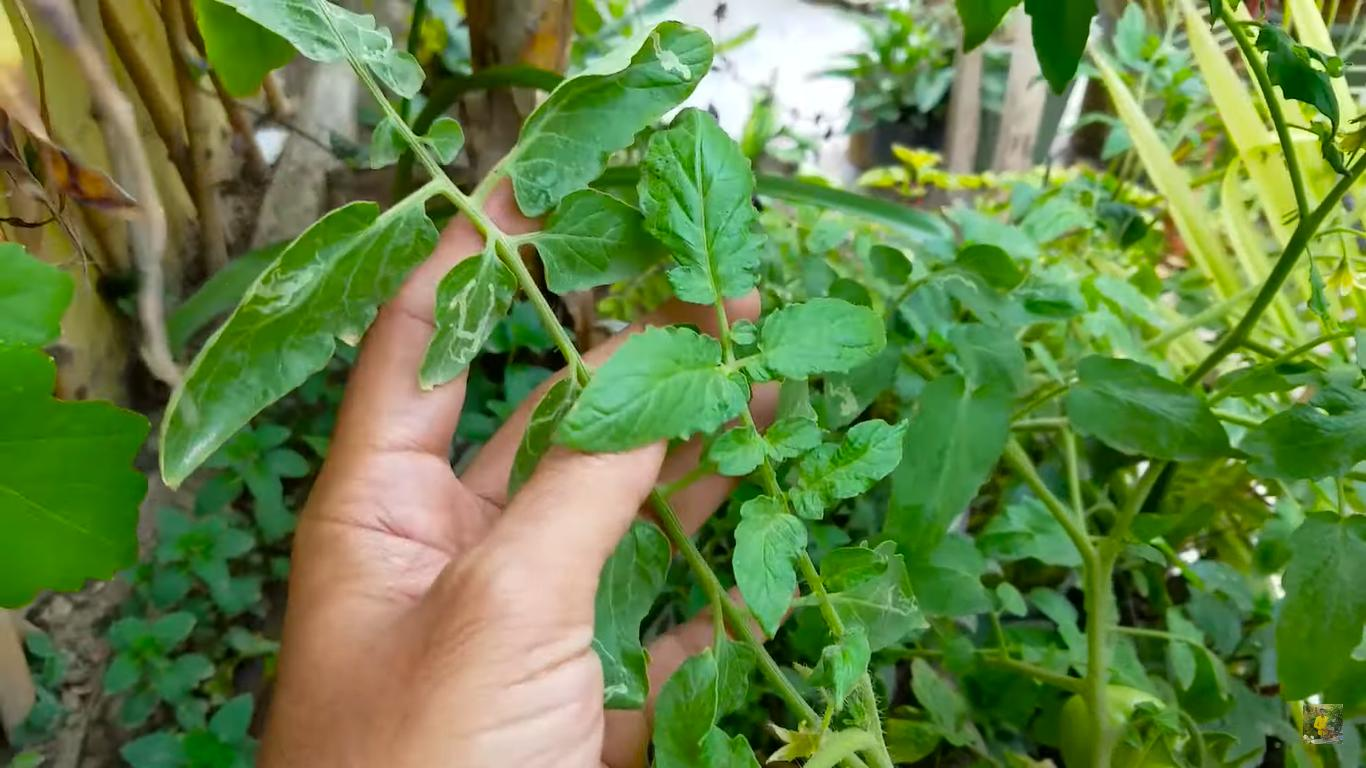Healthy: (0, 240, 152, 611), (635, 105, 768, 306), (881, 369, 1016, 565), (553, 325, 751, 455), (1065, 353, 1234, 469), (1276, 508, 1366, 702), (727, 489, 811, 642), (759, 295, 887, 380)
Leaf_Miner: (156, 199, 439, 491), (515, 17, 714, 219), (215, 0, 428, 99), (592, 514, 672, 713), (417, 253, 516, 393), (834, 536, 931, 652), (823, 343, 902, 433), (924, 267, 1001, 321)
